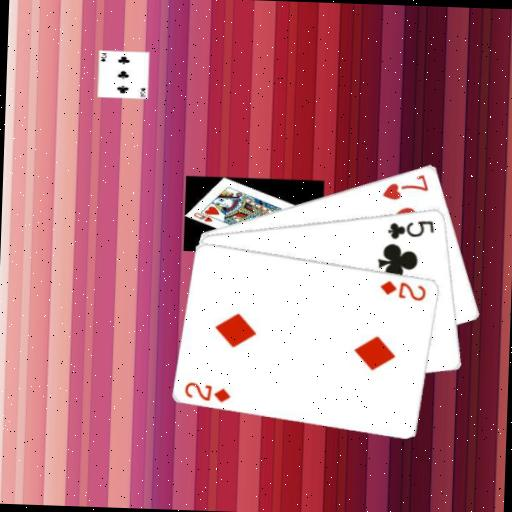2D: (377, 277, 428, 302), (181, 378, 232, 403)
5C: (384, 215, 435, 241)
7H: (379, 169, 431, 203)
